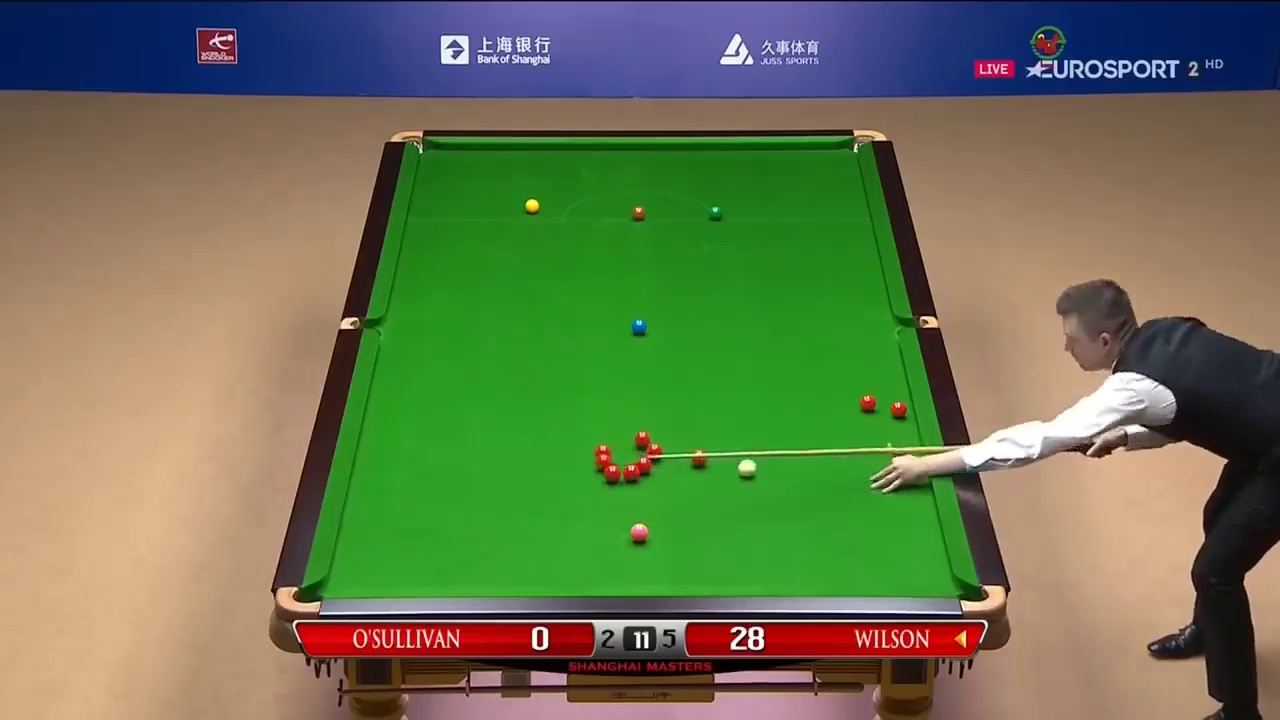ball: (737, 456, 760, 478), (629, 521, 649, 542), (889, 399, 908, 418), (706, 201, 724, 221), (521, 198, 543, 213), (857, 394, 875, 411), (627, 206, 645, 222), (633, 318, 648, 337)
